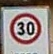limite 30: (9, 11, 42, 44)
